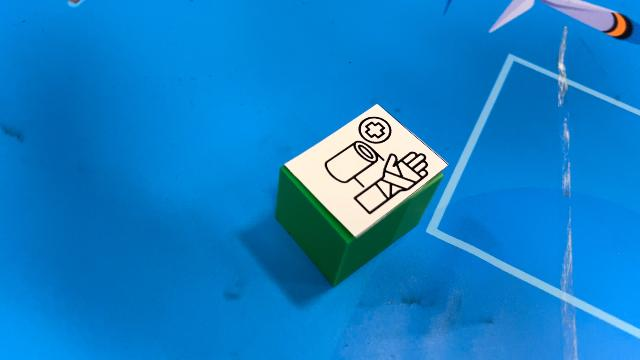bandage: (275, 103, 449, 286)
